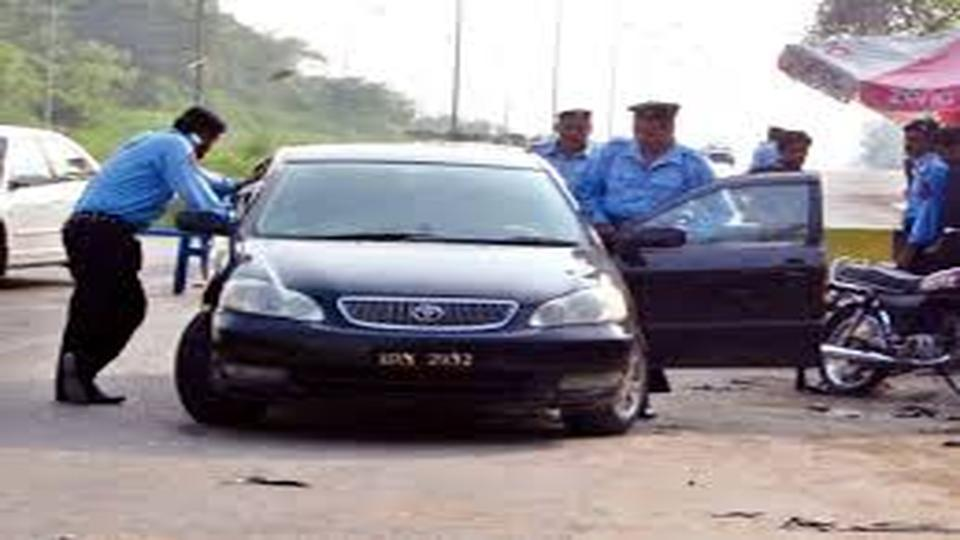NumberPlate: (365, 339, 494, 382)
